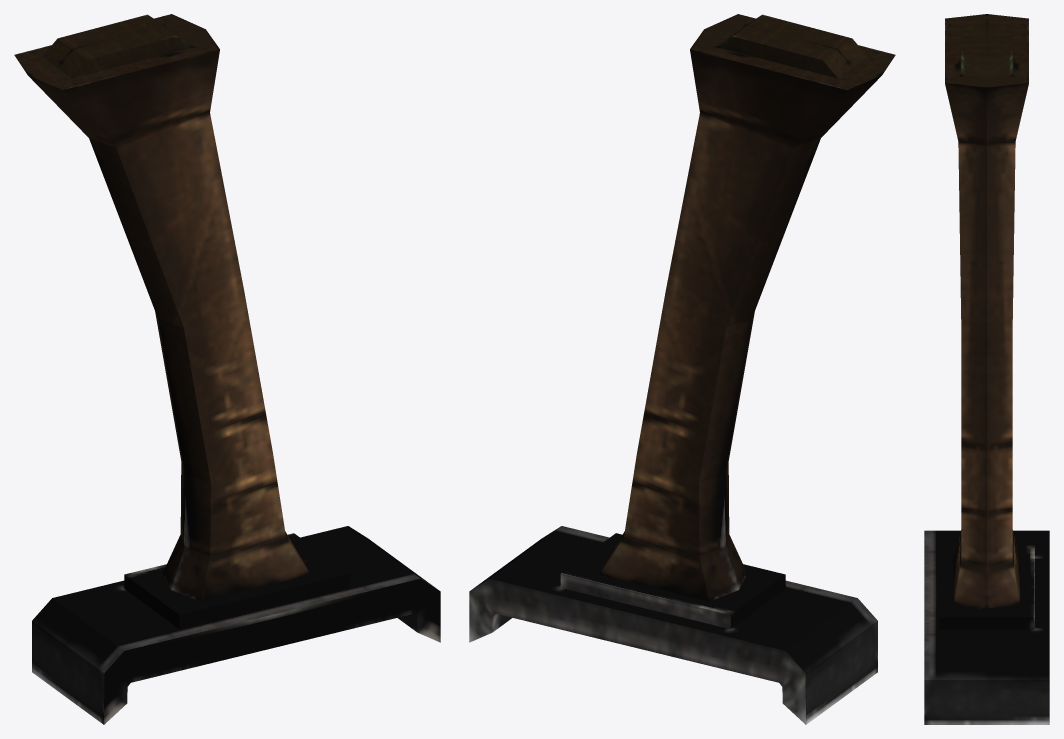
The model's file is Machete_grip_default.FBX.
3 views of the same model, side by side, from view 1: azimuth 30°, elevation 25°; view 2: azimuth 150°, elevation 25°; view 3: azimuth 270°, elevation 25° (orthographic). The views are drawn at different scales.
Parts seen in each view (by area): view 1: Machete_grip_default; view 2: Machete_grip_default; view 3: Machete_grip_default.
Part boxes in pixels (x1=…): Machete_grip_default: x1=14, y1=14, x2=440, y2=724; Machete_grip_default: x1=469, y1=14, x2=895, y2=724; Machete_grip_default: x1=924, y1=14, x2=1049, y2=724.
Size of the model in its own units: 16.87 by 27.79 by 5.59.
1 material, 1 textured.
